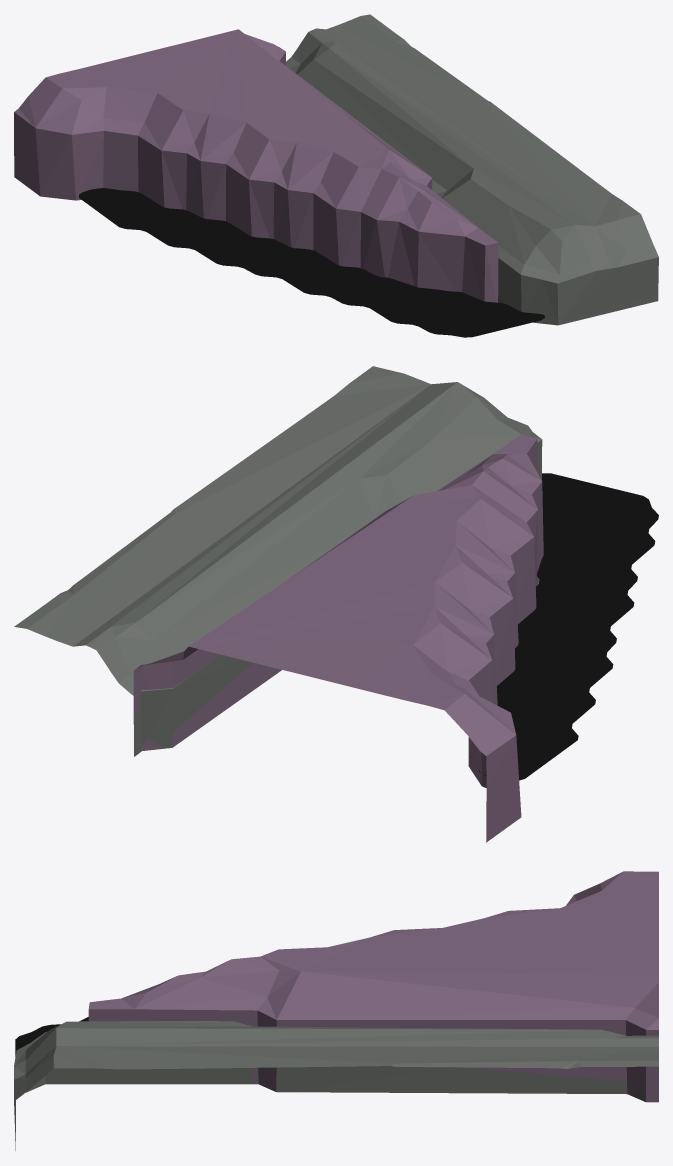
File: newshb-115.glb
3 renders of one model, top to bottom at view 1: azimuth 30°, elevation 25°; view 2: azimuth 150°, elevation 25°; view 3: azimuth 270°, elevation 25°, orthographic. The views are drawn at different scales.
Visible parts, largest first — view 1: newshb-115; view 2: newshb-115; view 3: newshb-115.
Part boxes in pixels (<box>): newshb-115: <box>14,14,658,337</box>; newshb-115: <box>14,366,658,842</box>; newshb-115: <box>14,871,658,1150</box>.
Bounding box in the file's own units: 1.66 × 0.4157 × 2.33.
